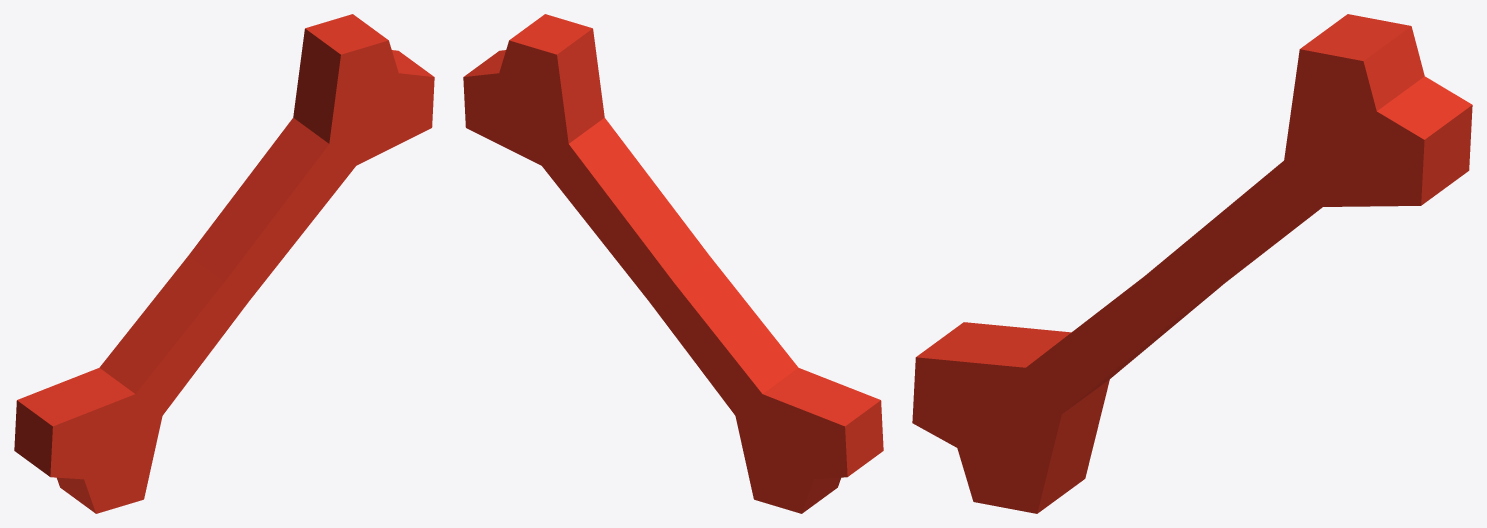
The model's file is Icon_Bone_01.fbx.
The picture shows the model from 3 angles, left to right: view 1: azimuth 30°, elevation 25°; view 2: azimuth 150°, elevation 25°; view 3: azimuth 330°, elevation 25°; orthographic projection. The views are drawn at different scales.
Parts seen in each view (by area): view 1: Icon_Bone_01; view 2: Icon_Bone_01; view 3: Icon_Bone_01.
Boxes of the visible parts, x1,y1,x2,y2 form: Icon_Bone_01: (14,14,434,513); Icon_Bone_01: (463,14,883,513); Icon_Bone_01: (912,14,1472,513).
Bounding box in the file's own units: 74.24 × 74.24 × 12.06.
